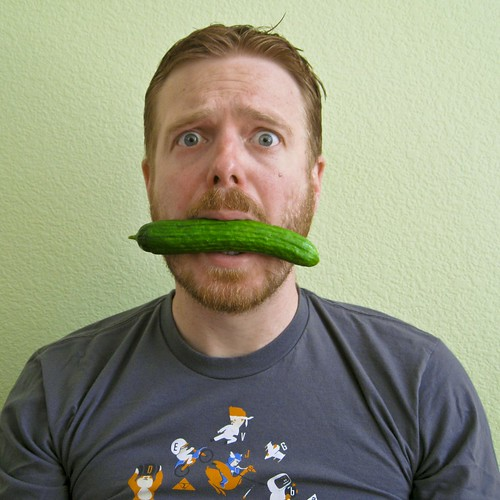cucumber: (128, 219, 321, 267)
